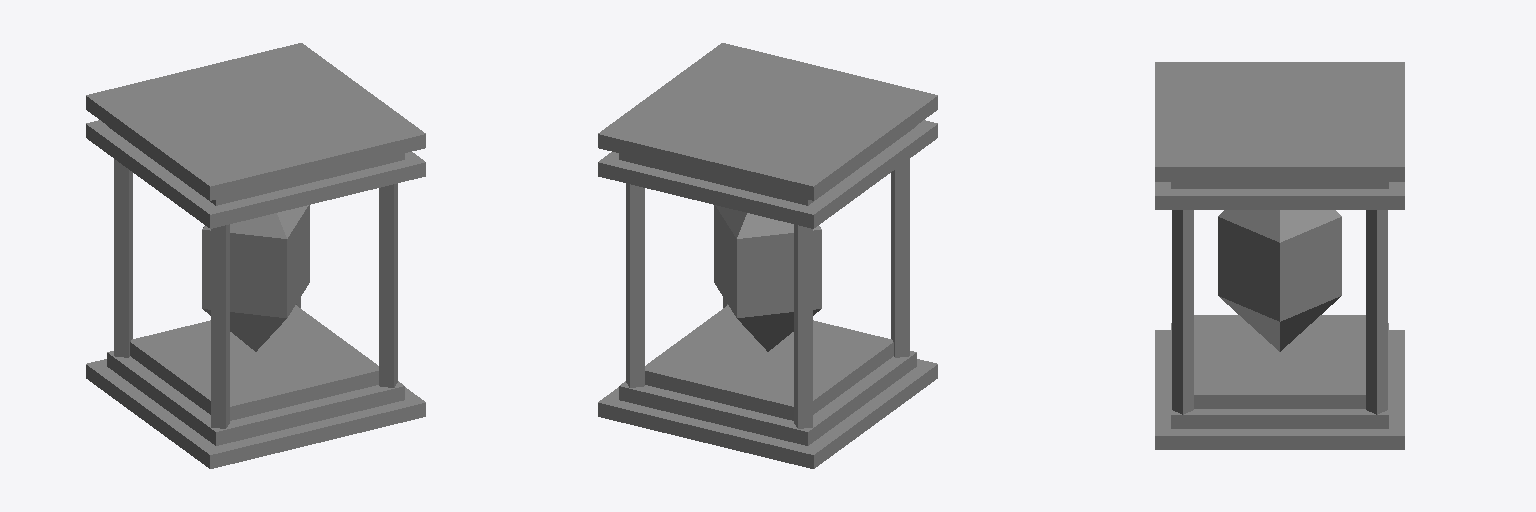
The model's file is TileVisCell.obj.
The picture shows the model from 3 angles: view 1: azimuth 30°, elevation 25°; view 2: azimuth 150°, elevation 25°; view 3: azimuth 270°, elevation 25°; orthographic projection.
Parts seen in each view (by area): view 1: _2, _1; view 2: _2, _1; view 3: _2, _1.
Boxes of the visible parts, box(x1,y1,x2,y2) form: _2: box(86, 43, 425, 468); _1: box(202, 205, 309, 351); _2: box(598, 43, 937, 468); _1: box(714, 205, 821, 351); _2: box(1155, 62, 1404, 449); _1: box(1218, 210, 1341, 351).
Size of the model in its own units: 0.8 by 1 by 0.8.